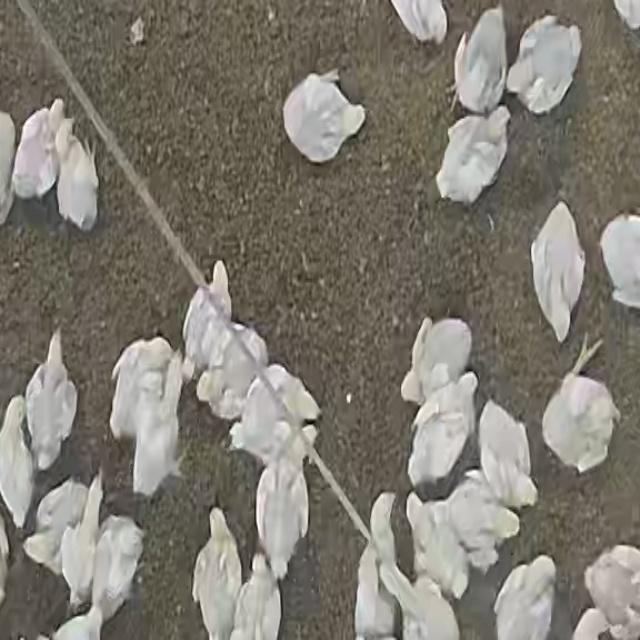chicken: (541, 339, 621, 475), (429, 470, 522, 580), (229, 364, 319, 470), (406, 369, 478, 498), (24, 328, 79, 474), (530, 200, 585, 344), (402, 486, 470, 602), (504, 14, 582, 115), (88, 490, 144, 624), (384, 540, 458, 640), (254, 449, 310, 581), (436, 106, 511, 204), (399, 316, 473, 412), (192, 506, 245, 638), (196, 316, 269, 411), (476, 397, 536, 512), (289, 72, 368, 158), (101, 335, 168, 436), (137, 363, 187, 498), (450, 6, 508, 116), (181, 256, 234, 374), (18, 478, 86, 564), (491, 556, 556, 640), (55, 118, 100, 232), (66, 467, 105, 595), (12, 104, 62, 202), (0, 396, 37, 528), (230, 552, 281, 640)
